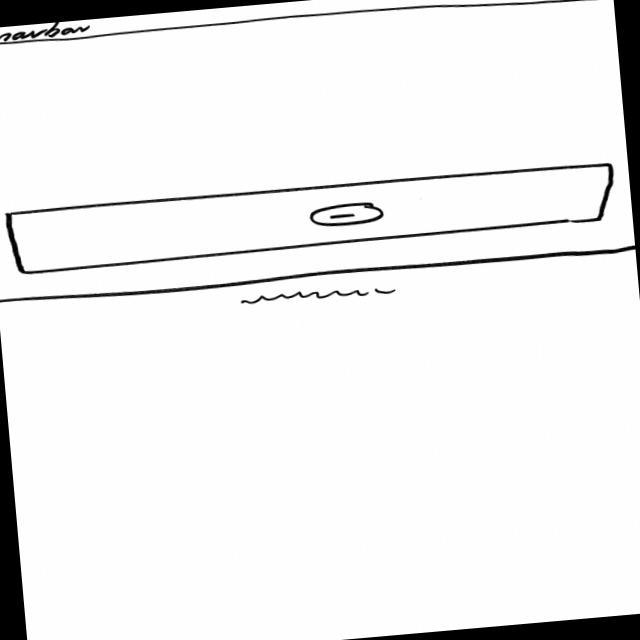container: (3, 156, 619, 276), (0, 0, 613, 56)
icon-button: (308, 201, 386, 229)
label: (0, 18, 94, 41)
text: (230, 282, 402, 310)
